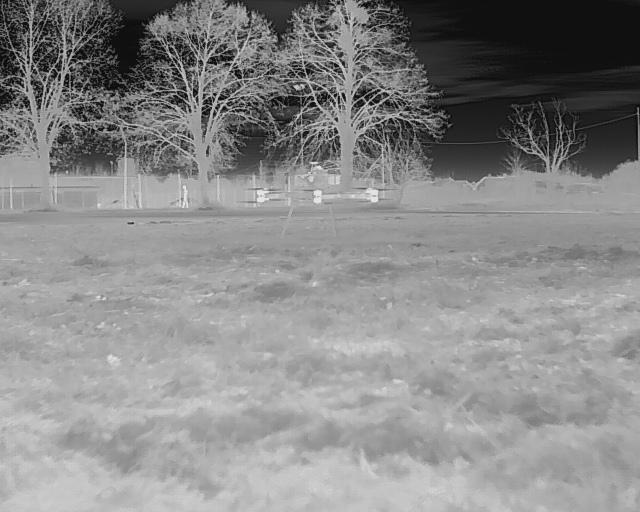drone: (237, 162, 400, 253)
